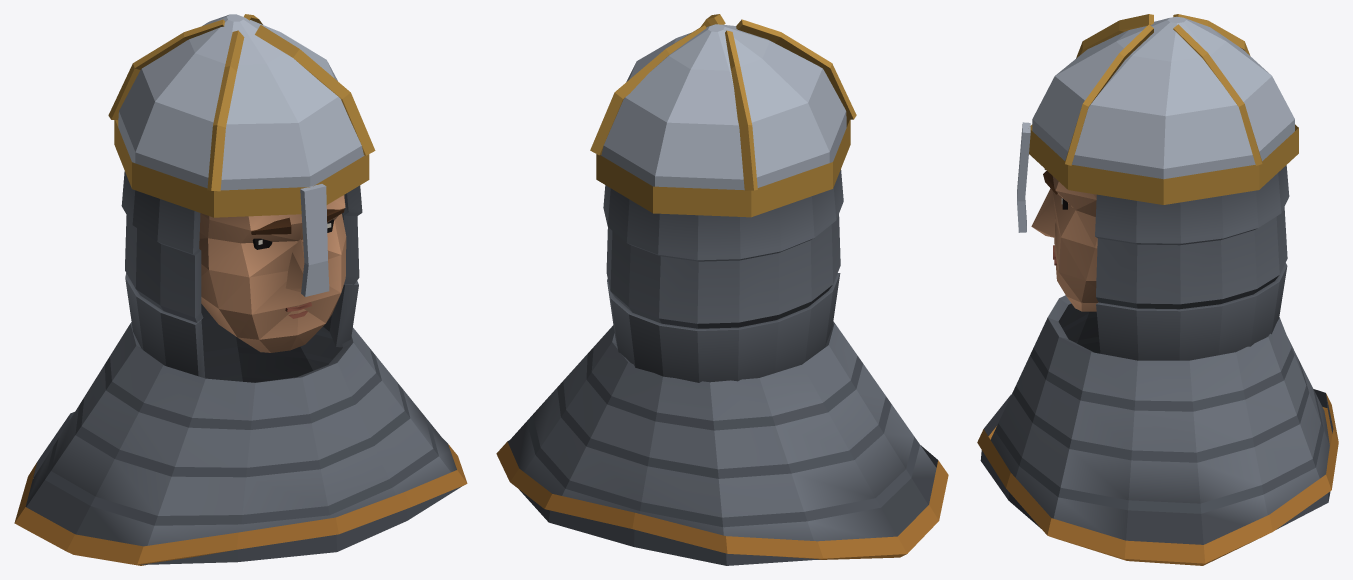
Rendered from h_nasal.glb.
The picture shows the model from 3 angles, left to right: view 1: azimuth 30°, elevation 25°; view 2: azimuth 150°, elevation 25°; view 3: azimuth 270°, elevation 25°; orthographic projection. The views are drawn at different scales.
Parts seen in each view (by area): view 1: Nasal, HeadMesh, Nose; view 2: Nasal; view 3: Nasal, HeadMesh, Nose.
Boxes of the visible parts, <box> form: Nasal: <box>14,14,467,565</box>; HeadMesh: <box>199,195,346,352</box>; Nose: <box>285,239,304,292</box>; Nasal: <box>496,14,948,565</box>; Nasal: <box>977,14,1338,565</box>; HeadMesh: <box>1052,176,1098,311</box>; Nose: <box>1031,188,1055,237</box>.
Size of the model in its own units: 0.4797 by 0.5268 by 0.38.
